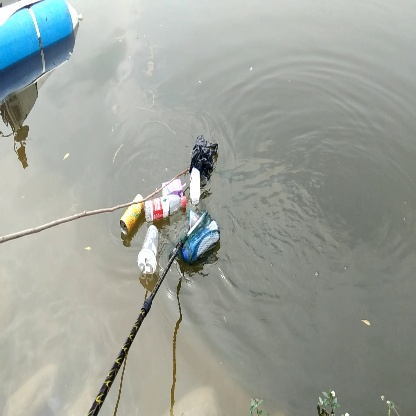bottle: (137, 224, 165, 276), (144, 195, 192, 223), (119, 193, 145, 238)
